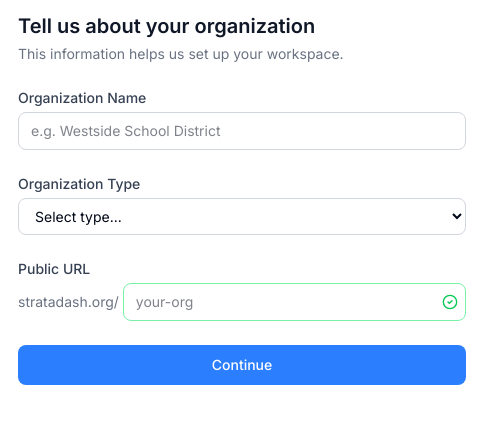
Test case: OrgCreationStep › shows validation error for short slug
Type "AB" into the field labelled "Organization Name" at x=242, y=131, box left=18, top=112, right=466, bottom=150
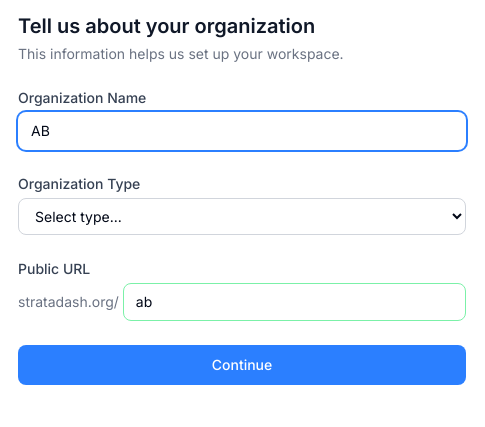
Select "School District" in the dropdown labelled "Organization Type" at x=242, y=216, box left=18, top=198, right=466, bottom=235
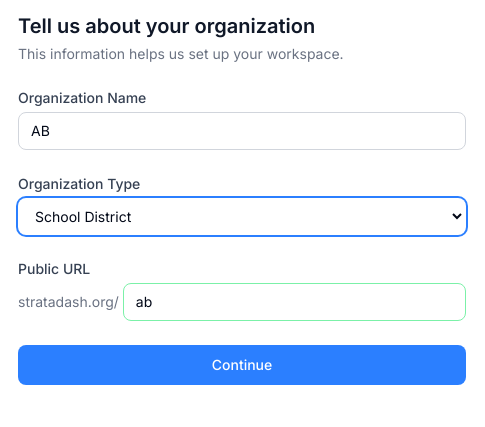
Click the button "Continue" at x=242, y=365, box left=18, top=345, right=466, bottom=385
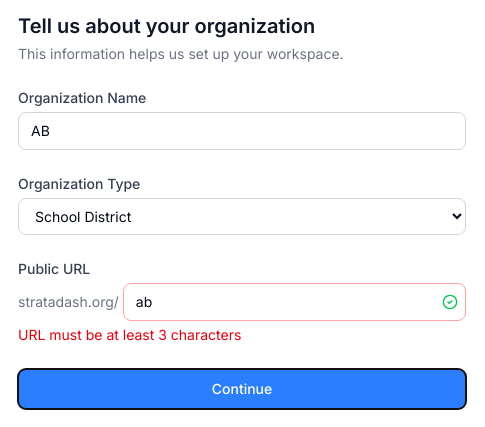
Check: the text "URL must be at least 3 characters" is shown, box left=18, top=326, right=241, bottom=343
